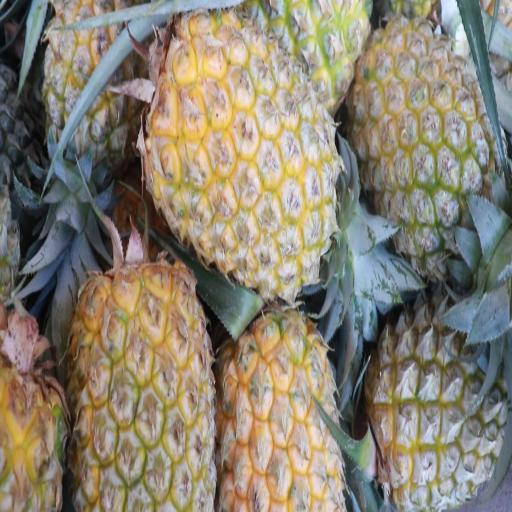------------------------------: (369, 292, 504, 502), (39, 0, 139, 171)
Pineapple - v8 v1: (151, 16, 334, 282), (74, 267, 212, 512), (358, 22, 496, 254), (218, 315, 344, 512)
